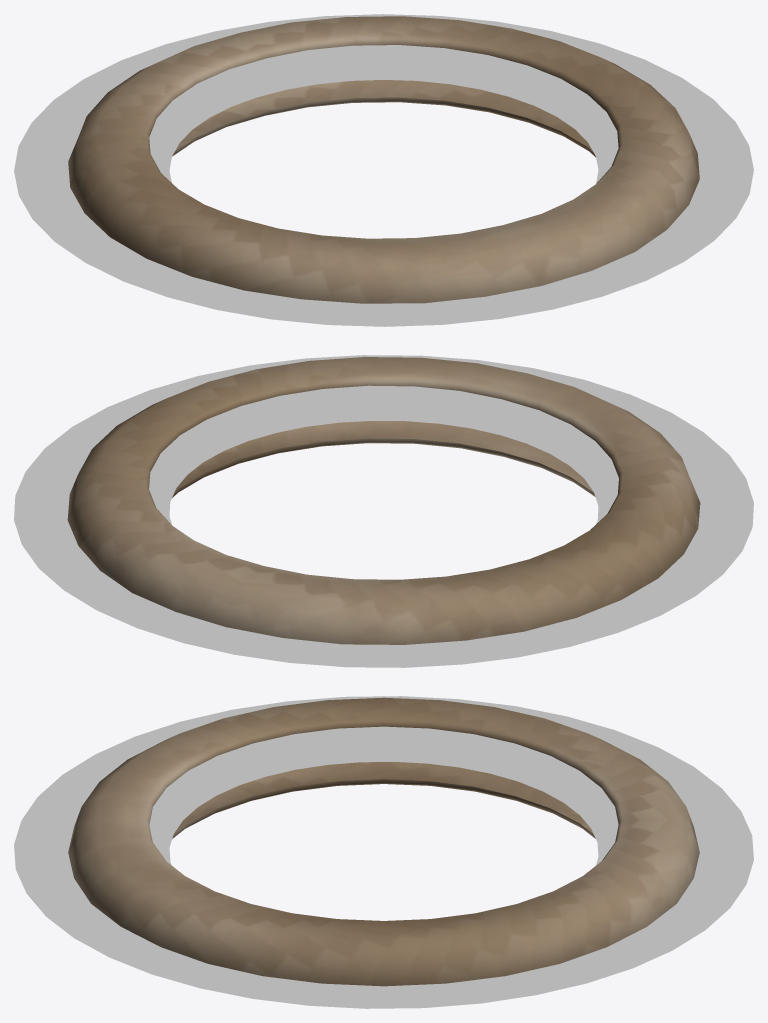
The model's file is pref_fx_NeutralScoreArea03_yellow_rim_lv3.fbx.
3 renders of one model, top to bottom at view 1: azimuth 30°, elevation 25°; view 2: azimuth 150°, elevation 25°; view 3: azimuth 270°, elevation 25°, orthographic.
Visible parts, largest first — view 1: sm_prop_platform06b_lv3, glow; view 2: sm_prop_platform06b_lv3, glow; view 3: sm_prop_platform06b_lv3, glow.
Boxes of the visible parts, box(x1,y1,x2,y2) form: sm_prop_platform06b_lv3: box(68, 16, 699, 303); glow: box(14, 14, 753, 326); sm_prop_platform06b_lv3: box(67, 357, 700, 644); glow: box(14, 355, 753, 667); sm_prop_platform06b_lv3: box(68, 697, 699, 986); glow: box(14, 696, 753, 1008).
Bounding box in the file's own units: 2.95 × 0.2873 × 2.95.
